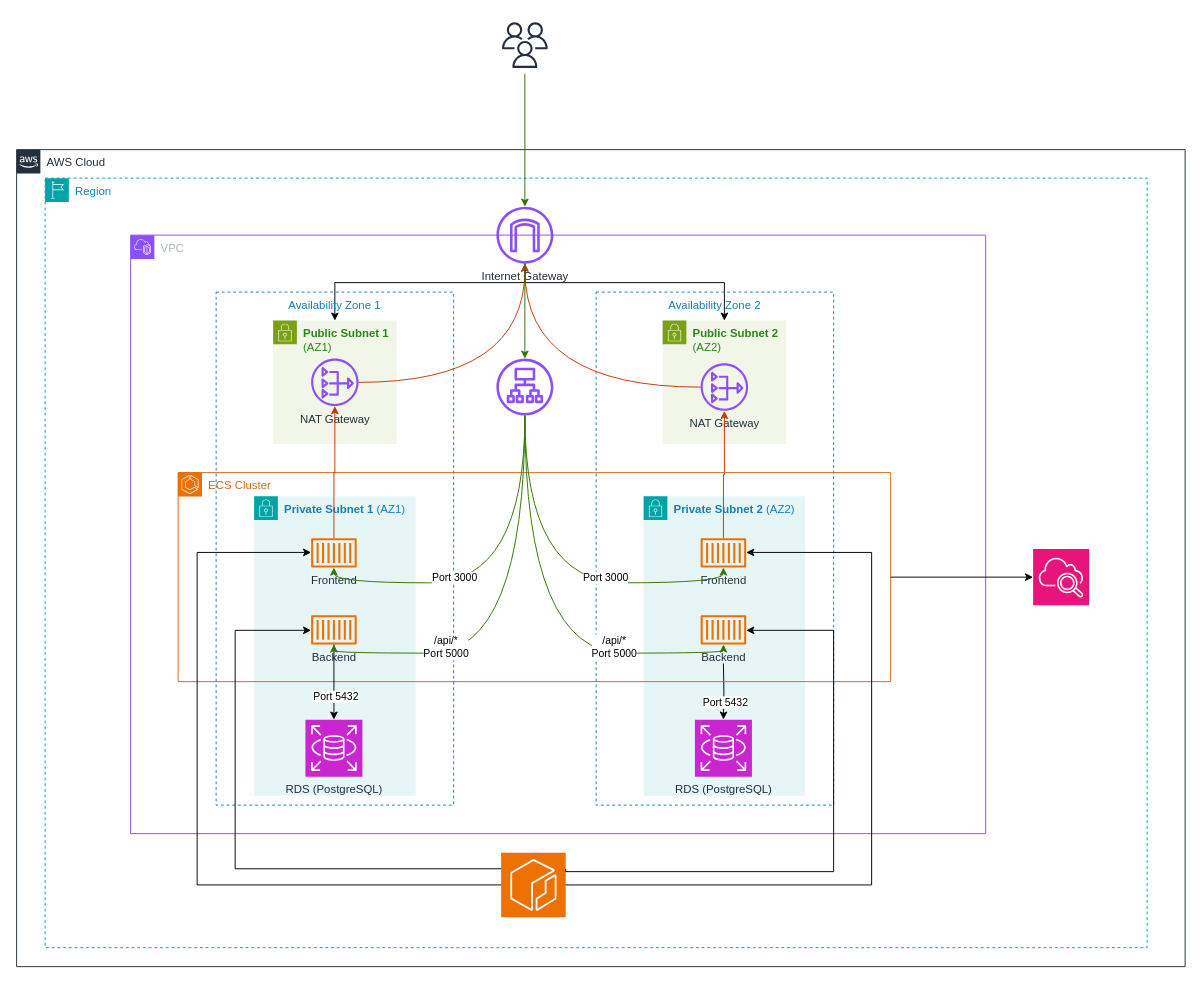
The diagram is 1202 pixels wide and 983 high, and some of its shapes have lost their labels. The centre of each missing label's shape, as x and y in pixels:
"ALB" goes at (x=524, y=386).
"Amazon ECR" goes at (x=533, y=884).
"CloudWatch Log Group" goes at (x=1060, y=576).
"Users" goes at (x=524, y=45).
